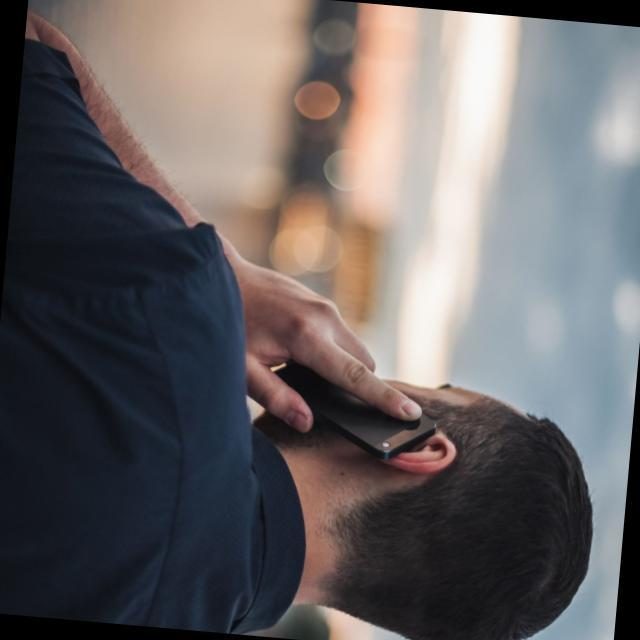USING_MOBILE: (0, 13, 488, 465)
